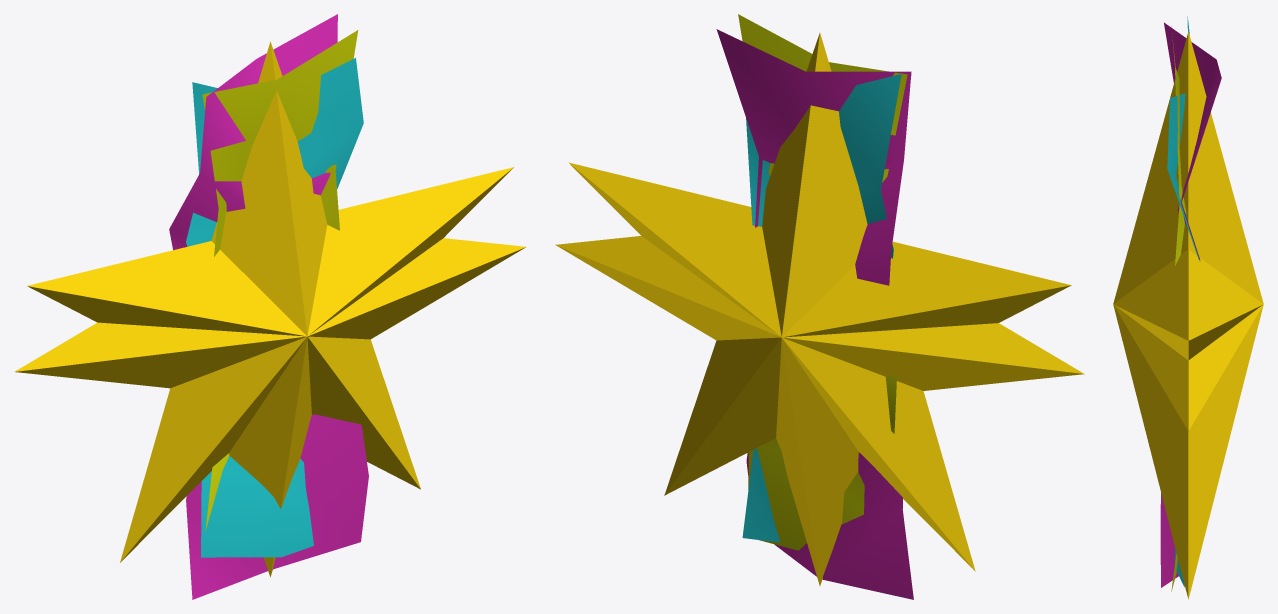
The model's file is particles.glb.
The picture shows the model from 3 angles, left to right: view 1: azimuth 30°, elevation 25°; view 2: azimuth 150°, elevation 25°; view 3: azimuth 270°, elevation 25°; orthographic projection. The views are drawn at different scales.
Parts seen in each view (by area): view 1: 5Star, 4Star, Confetti1, Confetti2, Confetti3; view 2: 5Star, 4Star, Confetti1, Confetti2, Confetti3; view 3: 5Star, 4Star, Confetti1, Confetti2, Confetti3.
Part boxes in pixels (x1=…): 5Star: x1=27, y1=167, x2=513, y2=562; 4Star: x1=14, y1=41, x2=525, y2=577; Confetti1: x1=169, y1=14, x2=368, y2=599; Confetti2: x1=186, y1=58, x2=363, y2=557; Confetti3: x1=202, y1=30, x2=358, y2=530; 5Star: x1=568, y1=162, x2=1071, y2=571; 4Star: x1=555, y1=33, x2=1084, y2=585; Confetti1: x1=716, y1=29, x2=913, y2=599; Confetti2: x1=742, y1=74, x2=901, y2=542; Confetti3: x1=738, y1=14, x2=907, y2=550; 5Star: x1=1113, y1=249, x2=1263, y2=599; 4Star: x1=1113, y1=31, x2=1263, y2=431; Confetti1: x1=1160, y1=22, x2=1221, y2=587; Confetti2: x1=1167, y1=16, x2=1199, y2=587; Confetti3: x1=1171, y1=25, x2=1186, y2=591.
Bounding box in the file's own units: 0.2 × 0.2 × 0.05.
